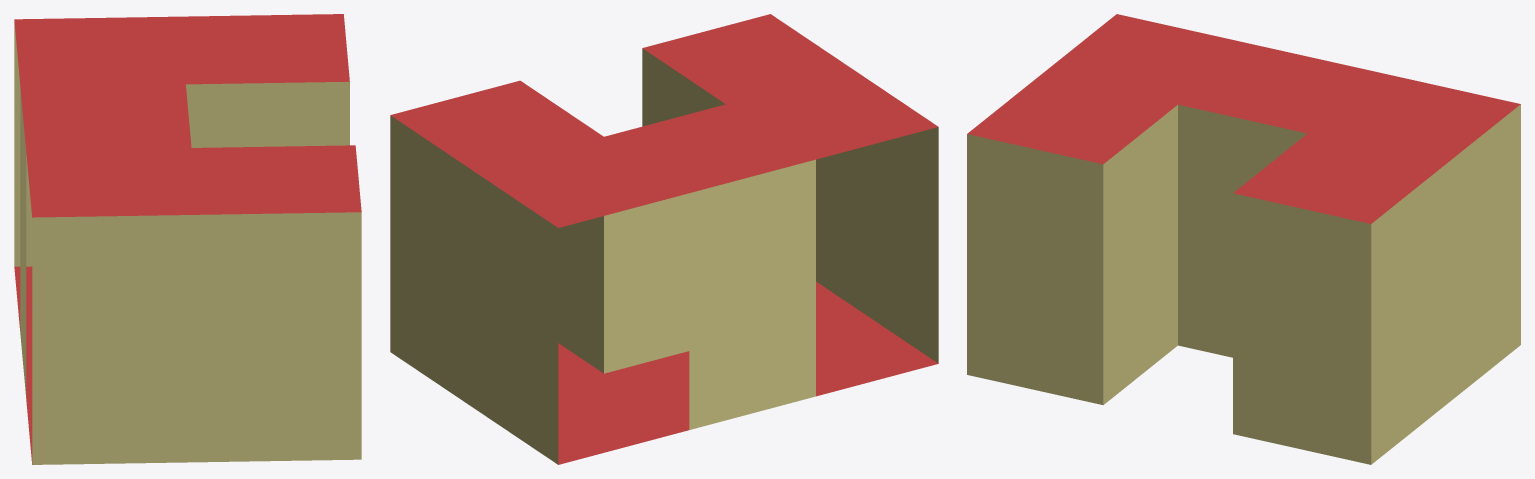
3 views of the same model, side by side, from view 1: azimuth 30°, elevation 25°; view 2: azimuth 150°, elevation 25°; view 3: azimuth 270°, elevation 25° (orthographic). The views are drawn at different scales.
Parts seen in each view (by area): view 1: group_4, group_3, group_5; view 2: group_4, group_3, group_5; view 3: group_4, group_3.
Boxes of the visible parts, box(x1,y1,x2,y2) form: group_4: box(14, 21, 361, 464); group_3: box(14, 14, 361, 217); group_5: box(14, 266, 32, 464); group_4: box(390, 48, 938, 464); group_3: box(390, 14, 938, 227); group_5: box(558, 281, 938, 464); group_4: box(967, 104, 1520, 464); group_3: box(967, 14, 1520, 223).
Size of the model in its own units: 15.84 by 17.65 by 8.47.
